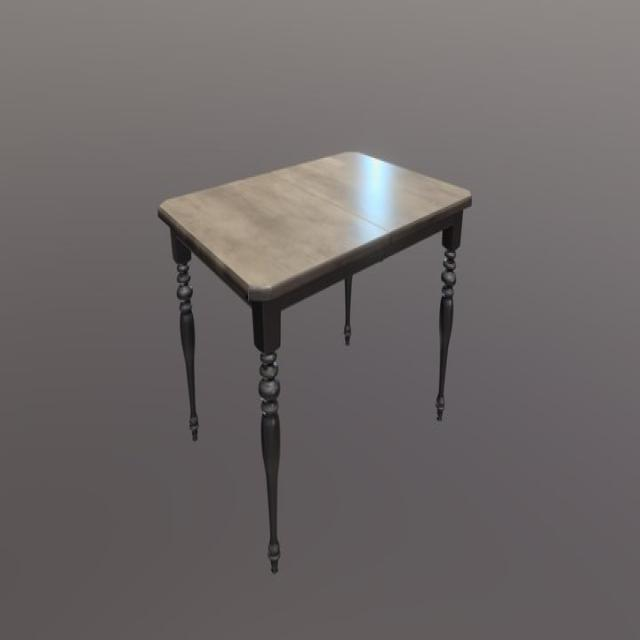table: (156, 149, 473, 577)
